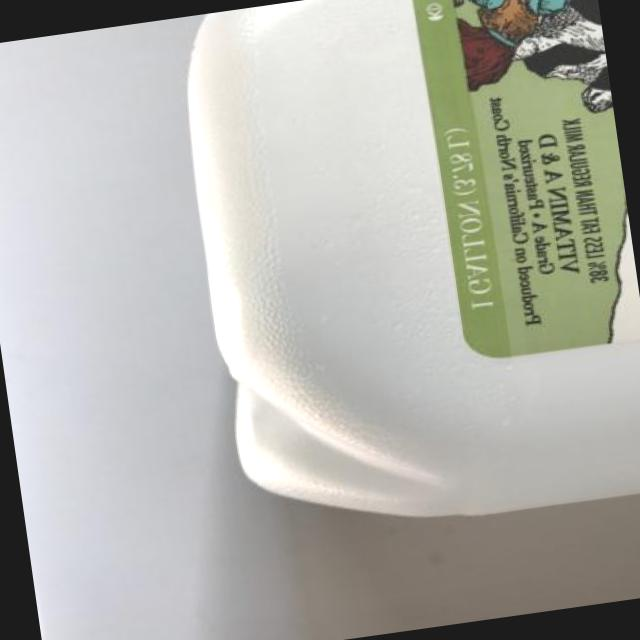bottle: (190, 0, 639, 515)
